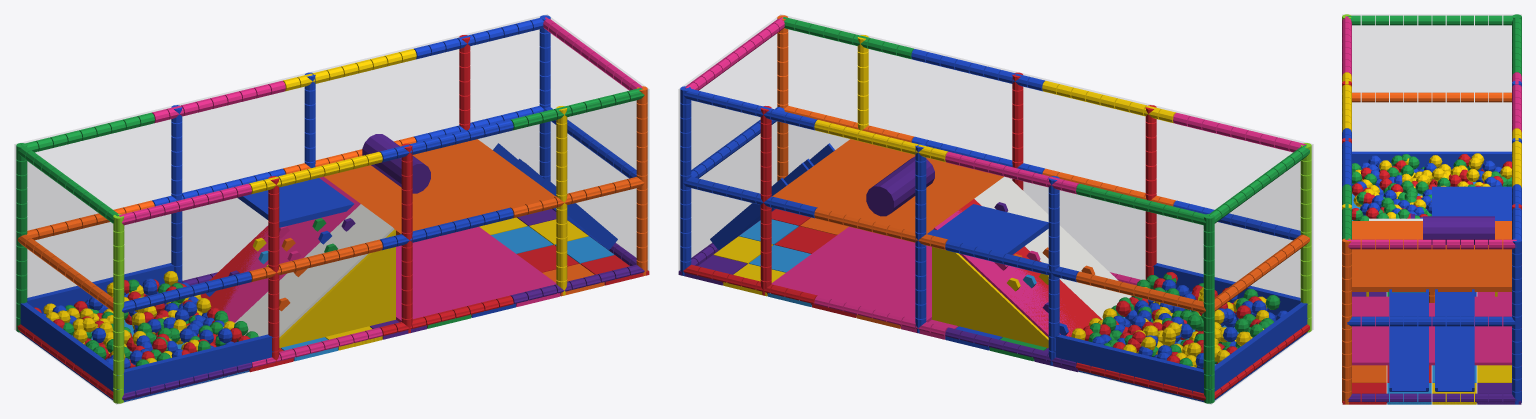
Rendered from kidplay-6m.glb.
3 views of the same model, side by side, from view 1: azimuth 30°, elevation 25°; view 2: azimuth 150°, elevation 25°; view 3: azimuth 270°, elevation 25° (orthographic). The views are drawn at different scales.
Parts seen in each view (by area): view 1: azul, laranja, rosa, amarelo, vermelho, verde, roxo, branco, azulclaro, verdeclaro; view 2: azul, laranja, rosa, amarelo, vermelho, verde, roxo, branco, azulclaro, verdeclaro; view 3: azul, laranja, rosa, verde, amarelo, roxo, vermelho, azulclaro.
Part boxes in pixels (left/top/right/bottom): azul: left=20, top=15, right=636, bottom=402; laranja: left=17, top=86, right=647, bottom=311; rosa: left=119, top=17, right=642, bottom=367; amarelo: left=43, top=49, right=588, bottom=363; vermelho: left=17, top=35, right=649, bottom=399; verde: left=16, top=88, right=644, bottom=366; roxo: left=122, top=134, right=644, bottom=400; branco: left=235, top=204, right=394, bottom=337; azulclaro: left=63, top=226, right=614, bottom=401; verdeclaro: left=113, top=214, right=124, bottom=403; azul: left=680, top=49, right=1307, bottom=401; laranja: left=772, top=15, right=1309, bottom=328; rosa: left=685, top=17, right=1306, bottom=339; amarelo: left=713, top=35, right=1268, bottom=367; vermelho: left=683, top=72, right=1309, bottom=400; verde: left=783, top=17, right=1309, bottom=403; roxo: left=678, top=156, right=1255, bottom=372; branco: left=974, top=176, right=1131, bottom=319; azulclaro: left=739, top=219, right=1283, bottom=401; verdeclaro: left=1300, top=143, right=1311, bottom=332; azul: left=1342, top=81, right=1521, bottom=404; laranja: left=1342, top=92, right=1511, bottom=404; rosa: left=1342, top=16, right=1521, bottom=365; verde: left=1342, top=14, right=1521, bottom=296; amarelo: left=1342, top=72, right=1521, bottom=404; roxo: left=1342, top=214, right=1521, bottom=404; vermelho: left=1342, top=81, right=1521, bottom=404; azulclaro: left=1352, top=181, right=1476, bottom=404.
Size of the model in its own units: 6 by 2.02 by 2.
